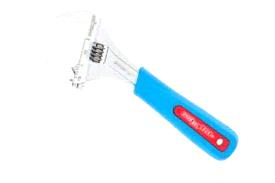wrench: (20, 68, 261, 117)
